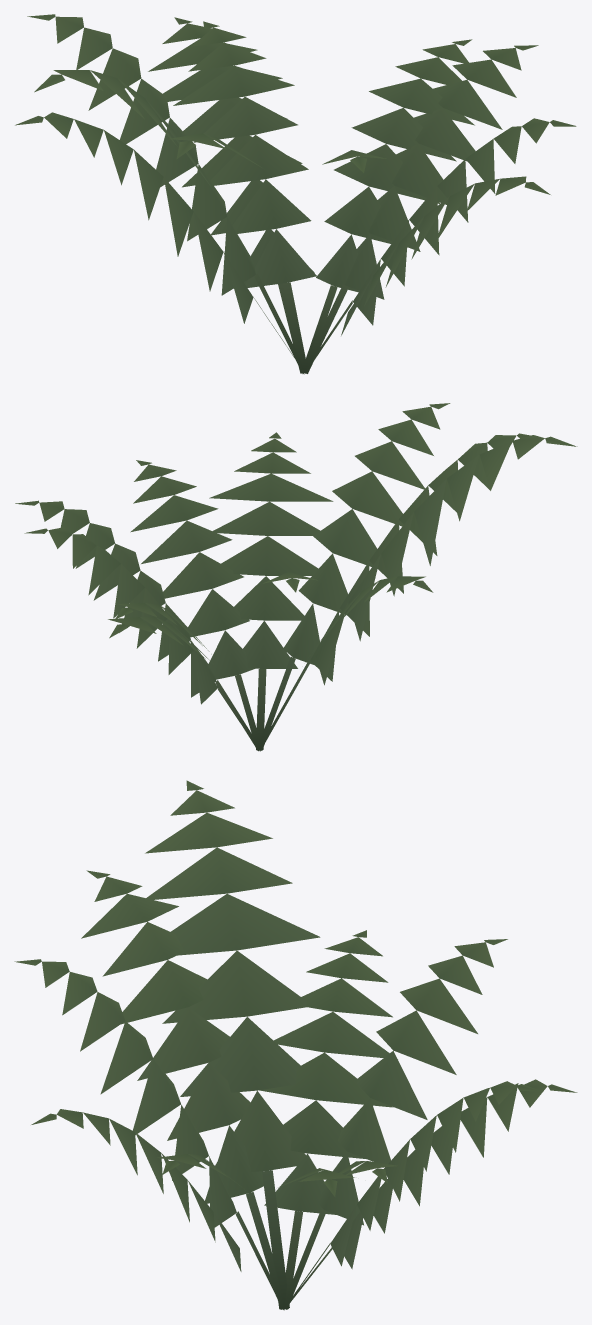
File: farn_breit.glb
3 views of the same model, one above another, from view 1: azimuth 30°, elevation 25°; view 2: azimuth 150°, elevation 25°; view 3: azimuth 270°, elevation 25° (orthographic). The views are drawn at different scales.
Visible parts, largest first — view 1: farn_breit; view 2: farn_breit; view 3: farn_breit.
Part boxes in pixels (box(x1,y1,x2,y2)): farn_breit: box(15, 14, 576, 374); farn_breit: box(15, 403, 577, 751); farn_breit: box(14, 780, 577, 1310).
Size of the model in its own units: 0.9108 by 0.5999 by 0.7986.
